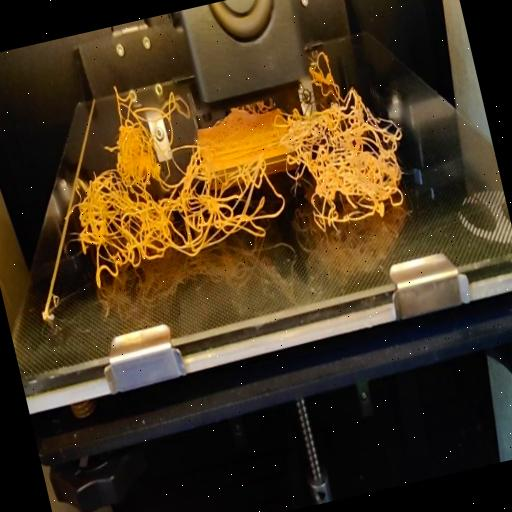spaghetti: (50, 62, 421, 292), (110, 69, 192, 132), (307, 48, 334, 80)
